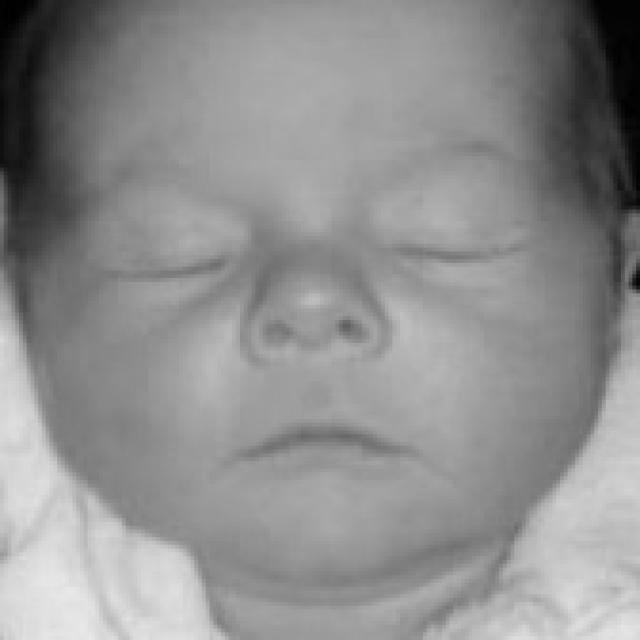real: (52, 2, 600, 552), (95, 170, 529, 300)
